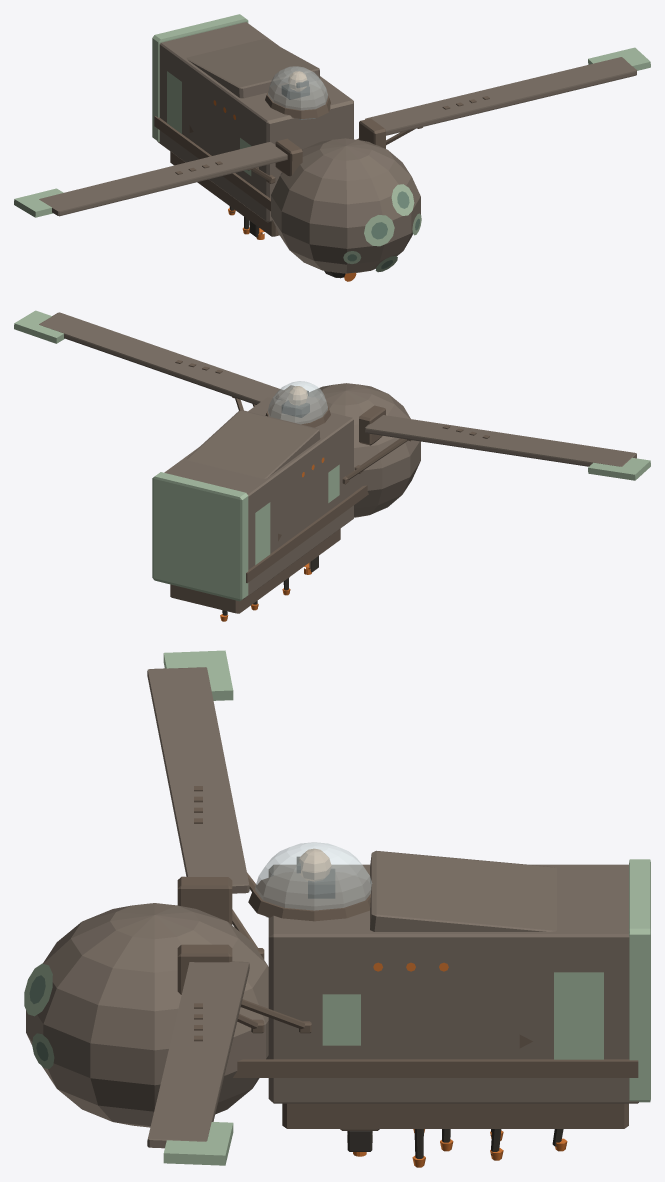
Rendered from pod-41-7.glb.
3 renders of one model, top to bottom at view 1: azimuth 30°, elevation 25°; view 2: azimuth 150°, elevation 25°; view 3: azimuth 270°, elevation 25°, orthographic. The views are drawn at different scales.
Parts seen in each view (by area): view 1: n1, n13, n45, n33, n15, n27, n19, n28, n21, n17, n23, n35 (+5 smaller); view 2: n13, n19, n1, n15, n45, n33, n17, n27, n21, n28, n35, n47 (+2 smaller); view 3: n13, n1, n15, n33, n45, n17, n22, n27, n19, n25, n28, n37 (+6 smaller).
Part boxes in pixels (x1,y1,x2,y2): n1: (271,138,420,273); n13: (157,22,353,222); n45: (365,57,636,135); n33: (39,142,287,216); n15: (186,39,320,98); n27: (268,66,327,119); n19: (152,14,248,142); n28: (265,82,330,118); n21: (154,116,270,211); n17: (170,151,279,236); n23: (167,71,181,133); n35: (14,188,63,217); n13: (164,397,353,599); n19: (152,472,248,601); n1: (308,383,420,517); n15: (186,410,320,478); n45: (39,312,283,404); n33: (365,415,636,466); n17: (170,528,340,613); n27: (268,381,327,424); n21: (246,485,368,583); n28: (265,397,330,427); n35: (588,457,650,480); n47: (14,310,64,343); n13: (268,864,638,1103); n1: (26,903,268,1127); n15: (370,850,556,931); n33: (147,667,249,893); n45: (147,961,249,1148); n17: (282,1103,628,1128); n22: (233,1059,638,1077); n27: (255,842,372,917); n19: (629,859,650,1102); n25: (554,972,603,1059); n28: (248,871,370,921); n37: (177,876,232,924).
Size of the model in its own units: 7.21 by 2.02 by 3.84.
